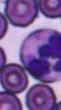N: (18, 28, 61, 82)
